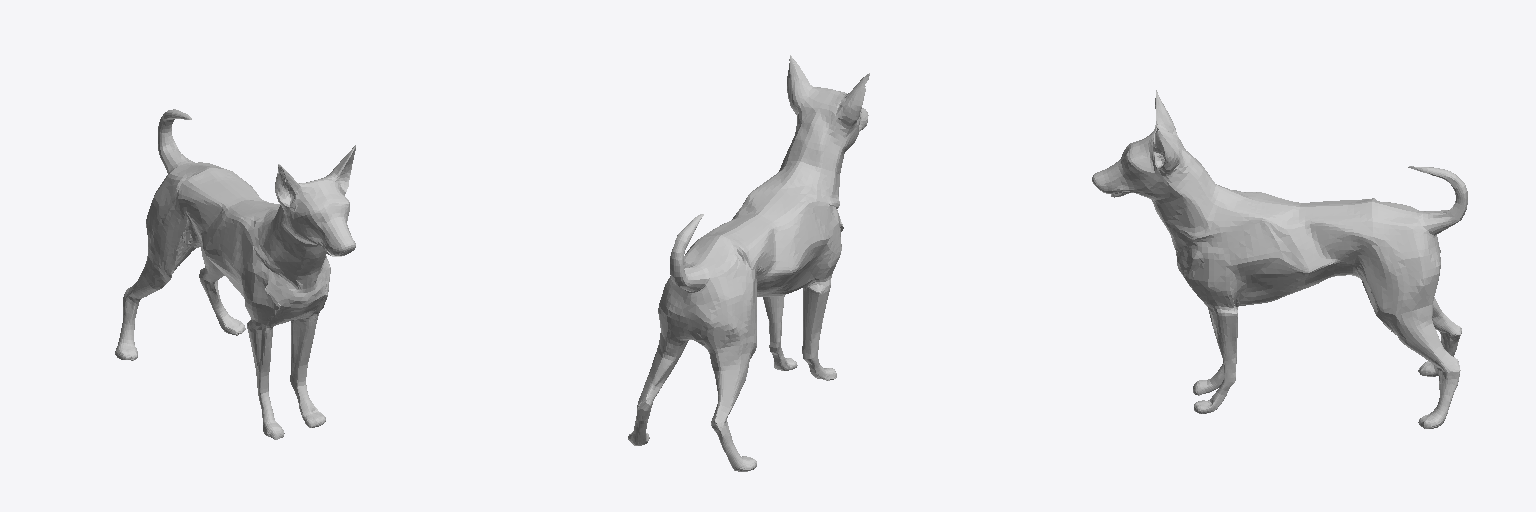
The model's file is perro.obj.
The picture shows the model from 3 angles: view 1: azimuth 30°, elevation 25°; view 2: azimuth 150°, elevation 25°; view 3: azimuth 270°, elevation 25°; orthographic projection.
Visible parts, largest first — view 1: model; view 2: model; view 3: model.
Boxes of the visible parts, <box> form: model: <box>115,109,355,439</box>; model: <box>628,55,869,471</box>; model: <box>1092,90,1467,428</box>.
Bounding box in the file's own units: 0.773 × 1.72 × 1.99.